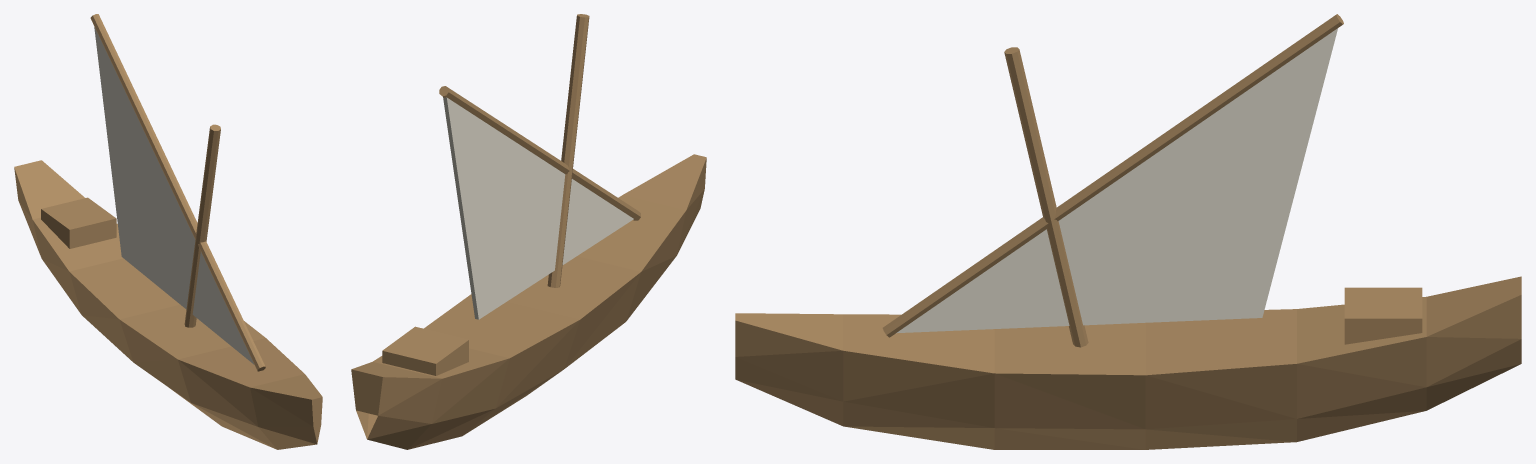
File: Dhow.fbx
The picture shows the model from 3 angles, left to right: view 1: azimuth 30°, elevation 25°; view 2: azimuth 150°, elevation 25°; view 3: azimuth 270°, elevation 25°; orthographic projection. The views are drawn at different scales.
Parts seen in each view (by area): view 1: Dhow; view 2: Dhow; view 3: Dhow.
Part boxes in pixels (x1=…): Dhow: x1=14, y1=14, x2=322, y2=449; Dhow: x1=351, y1=14, x2=706, y2=449; Dhow: x1=735, y1=14, x2=1521, y2=449.
Size of the model in its own units: 2.97 by 9.73 by 15.92.
